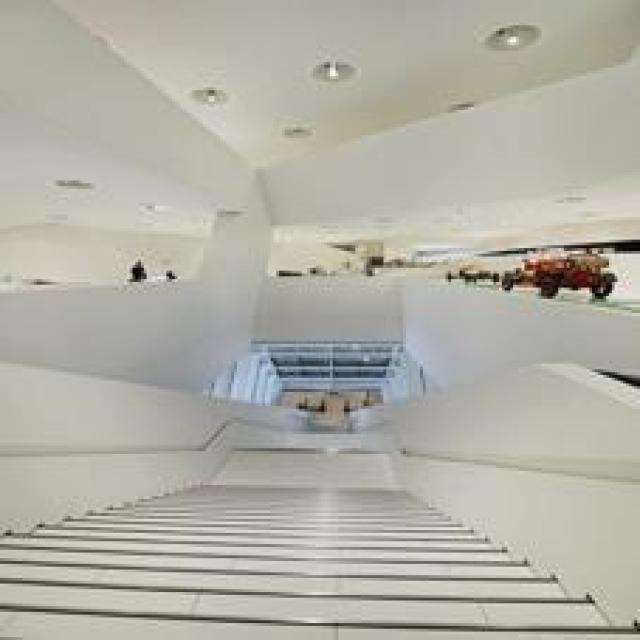downstair: (52, 413, 559, 624)
